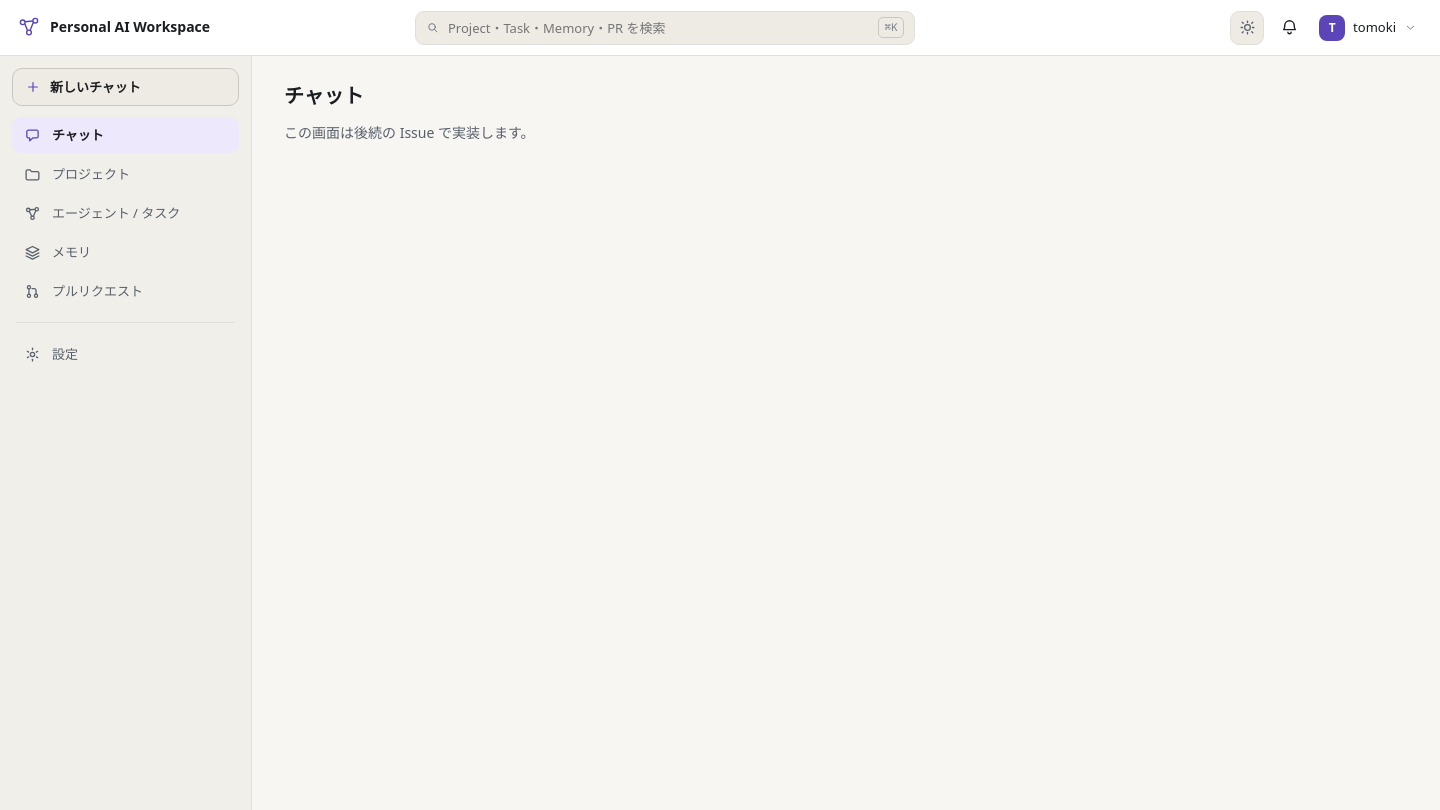
Test: signing out › treats a session the server already ended as signed out
Click the button with aria-label "アカウントメニュー".
click(1370, 28)  # box [1314,10,1426,44]
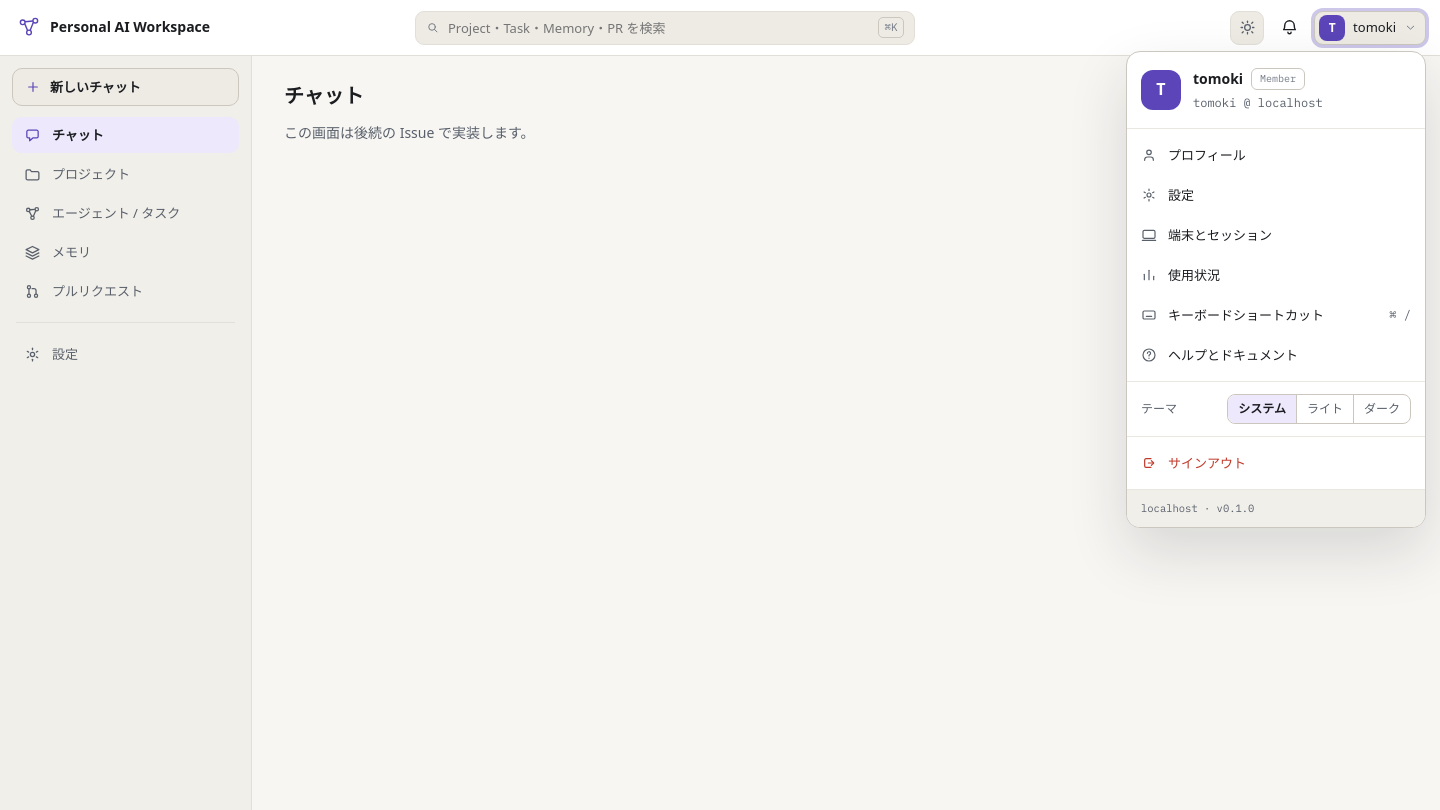
Click the button "サインアウト".
click(1207, 463)  # box [1127,443,1425,483]
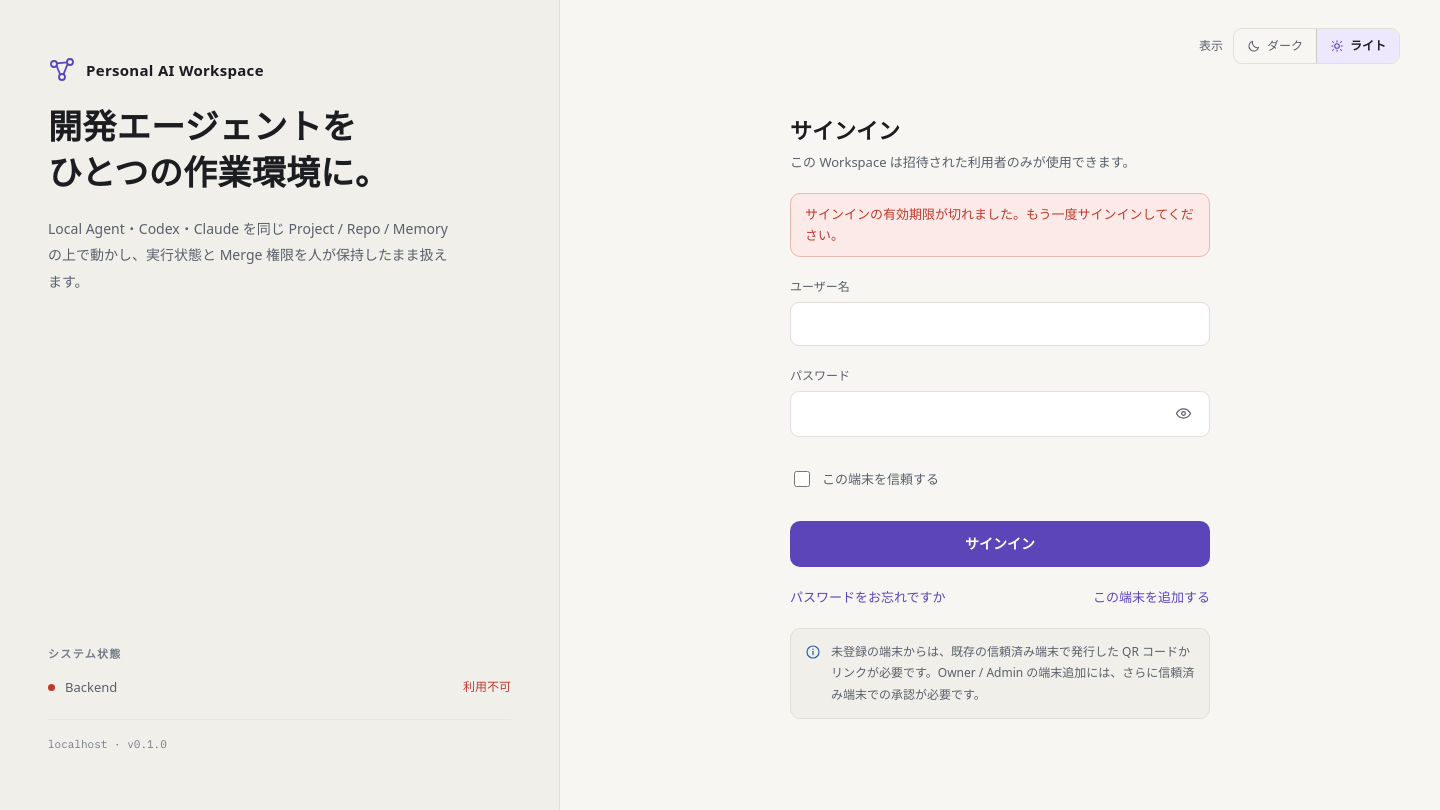
Check: the heading "サインイン" is shown, box [790,115,900,145]
